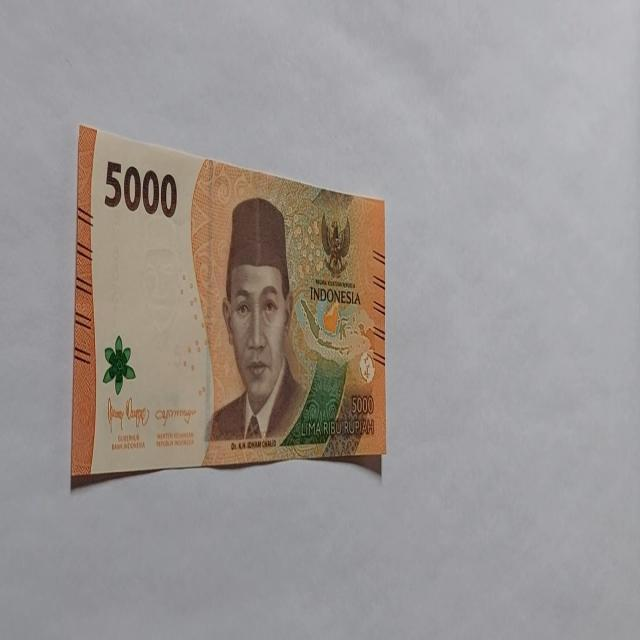lima ribu rupiah: (70, 122, 387, 488), (204, 196, 308, 447)
